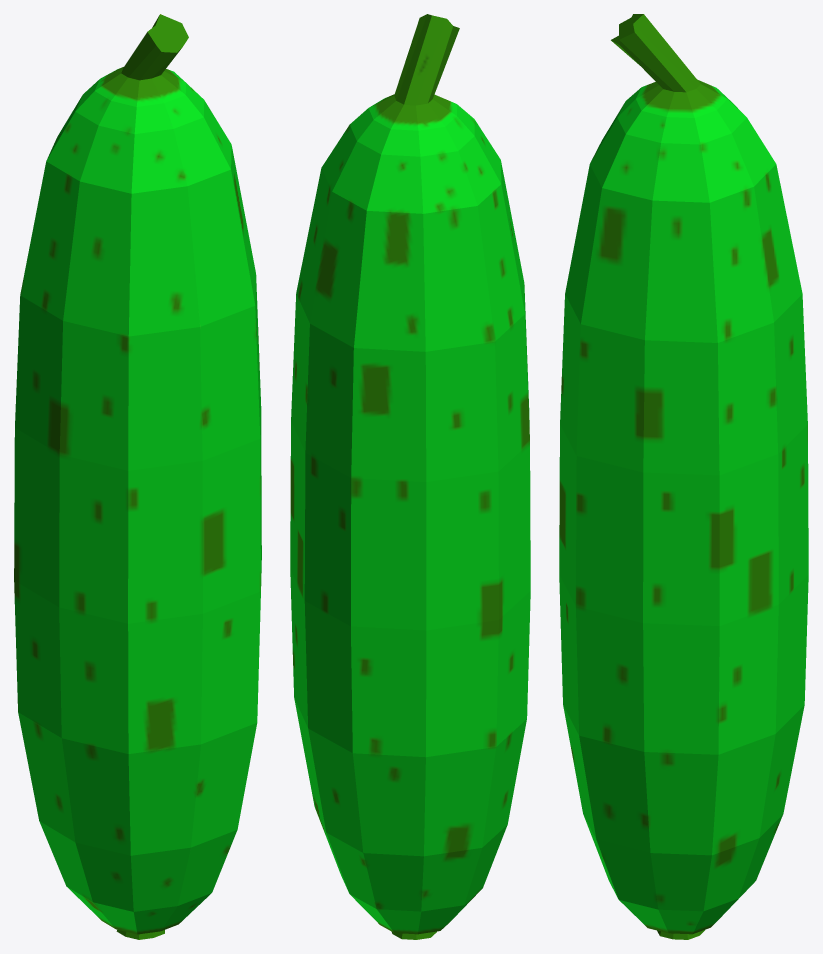
Rendered from cucumber.fbx.
3 renders of one model, left to right at view 1: azimuth 30°, elevation 25°; view 2: azimuth 150°, elevation 25°; view 3: azimuth 270°, elevation 25°, orthographic. The views are drawn at different scales.
Parts seen in each view (by area): view 1: Cucumber; view 2: Cucumber; view 3: Cucumber.
Part boxes in pixels (x1,y1,x2,y2): Cucumber: (14,14,261,939); Cucumber: (290,14,530,939); Cucumber: (559,14,808,939).
Bounding box in the file's own units: 65.21 × 269 × 66.45.
